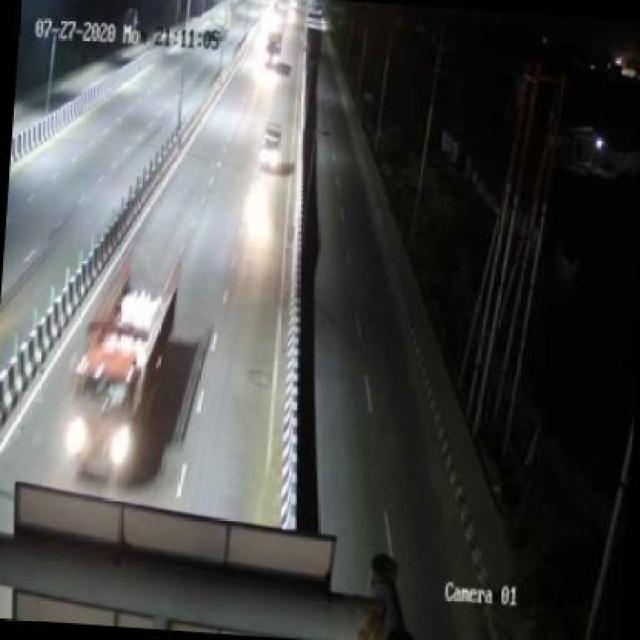car: (260, 114, 285, 171)
